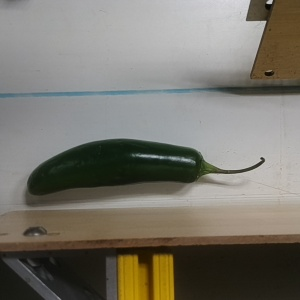Cut Point: (185, 147, 215, 185)
